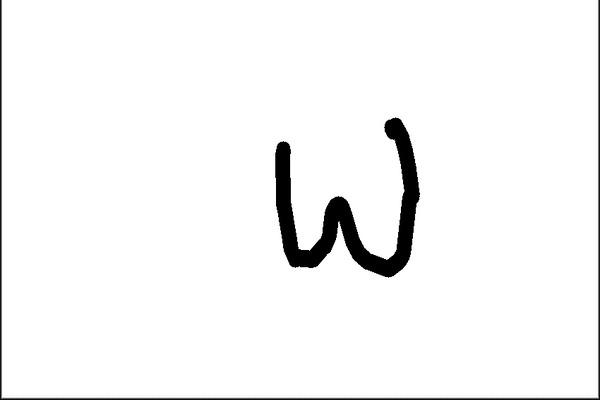w: (262, 108, 429, 287)
